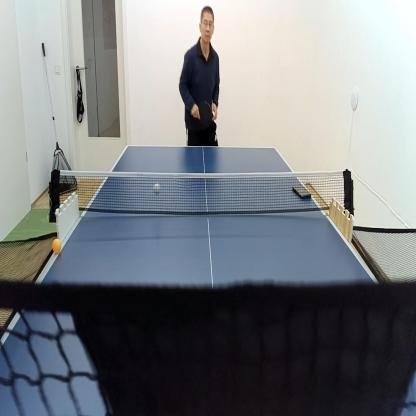Ball: (52, 236, 63, 255), (153, 182, 161, 197)
